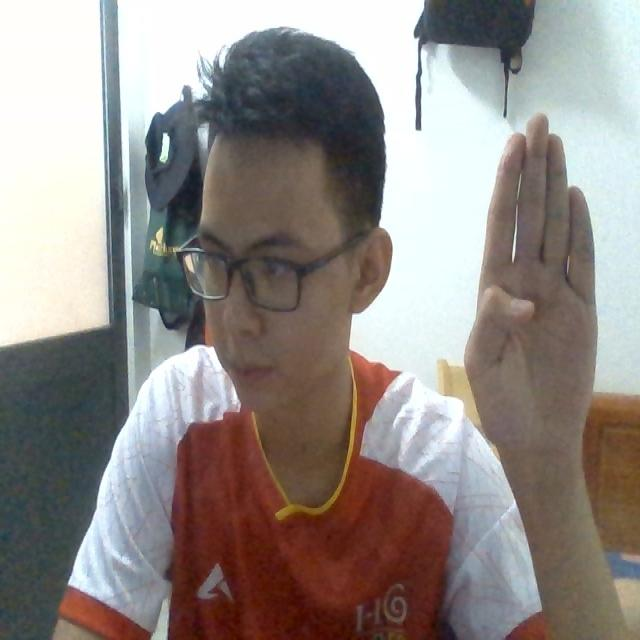B: (456, 95, 606, 528)
